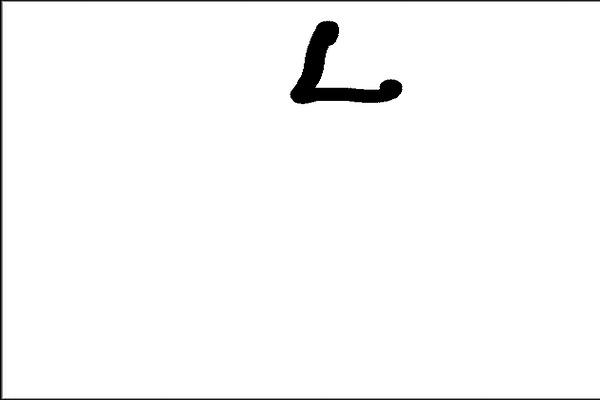L: (288, 16, 408, 108)
